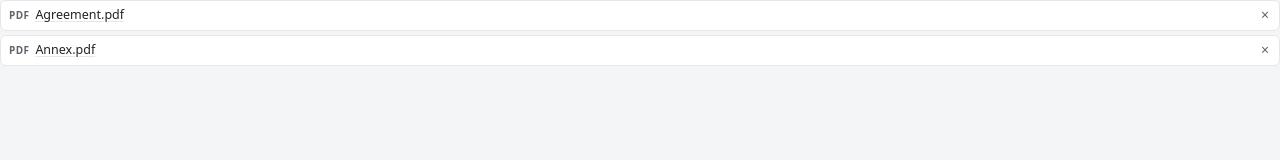
Scenario: FileRows › removes a file after Yes, at once, and refreshes the job
The width and height of the screenshot is (1280, 160).
Click the button named "Remove Agreement.pdf" at (1265, 15), box [1255,6,1275,24]
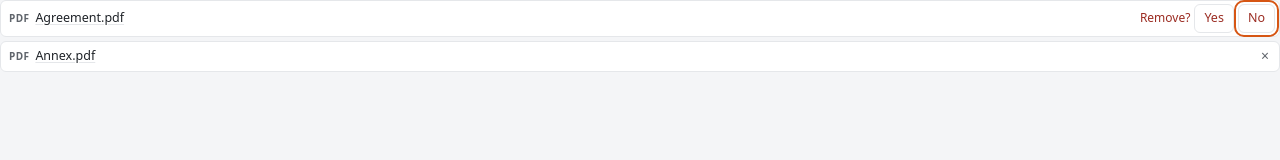
Click the button "Yes" at (1214, 18), box [1194,4,1234,33]
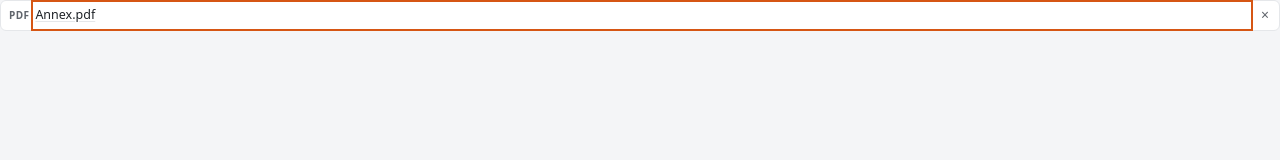
Expected: the button "Annex.pdf" is shown, [35,4,1249,27]
Result: the button "Agreement.pdf" is gone
